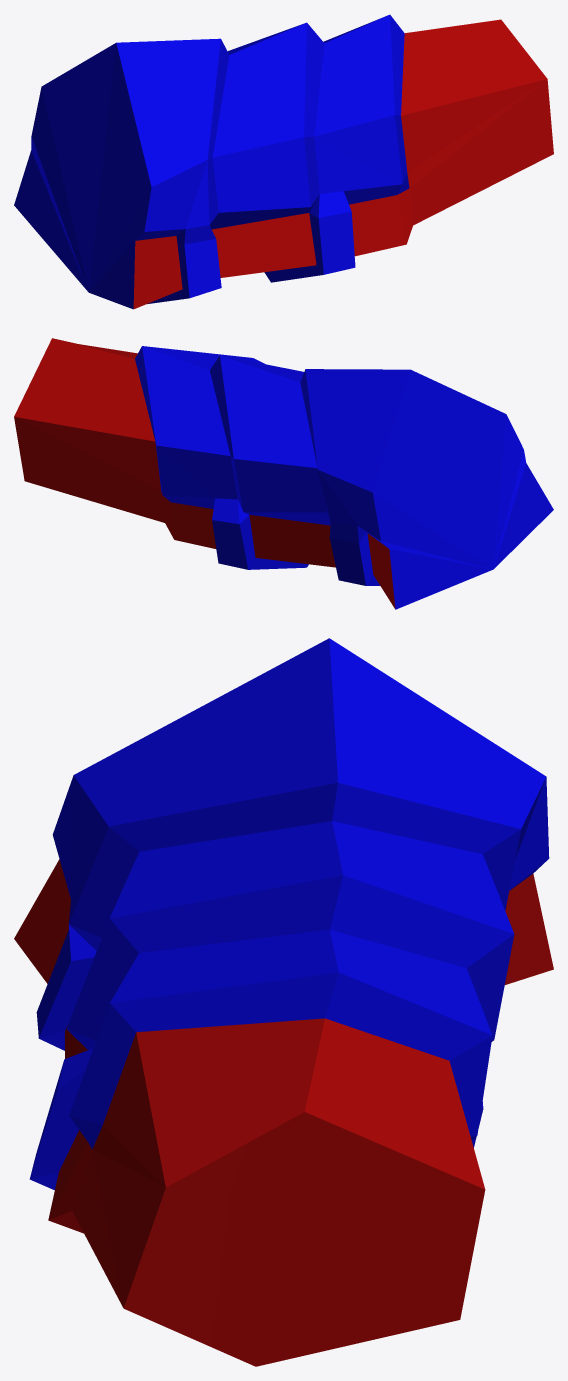
File: Chr_ArmUpperLeft_Male_Static_01.fbx
The picture shows the model from 3 angles, top to bottom: view 1: azimuth 30°, elevation 25°; view 2: azimuth 150°, elevation 25°; view 3: azimuth 270°, elevation 25°; orthographic projection. The views are drawn at different scales.
Parts seen in each view (by area): view 1: Chr_ArmUpperLeft_Male_01; view 2: Chr_ArmUpperLeft_Male_01; view 3: Chr_ArmUpperLeft_Male_01.
Boxes of the visible parts, x1,y1,x2,y2 form: Chr_ArmUpperLeft_Male_01: (14,14,553,309); Chr_ArmUpperLeft_Male_01: (14,338,553,609); Chr_ArmUpperLeft_Male_01: (14,638,553,1366).
Bounding box in the file's own units: 32.04 × 17.18 × 17.36.
